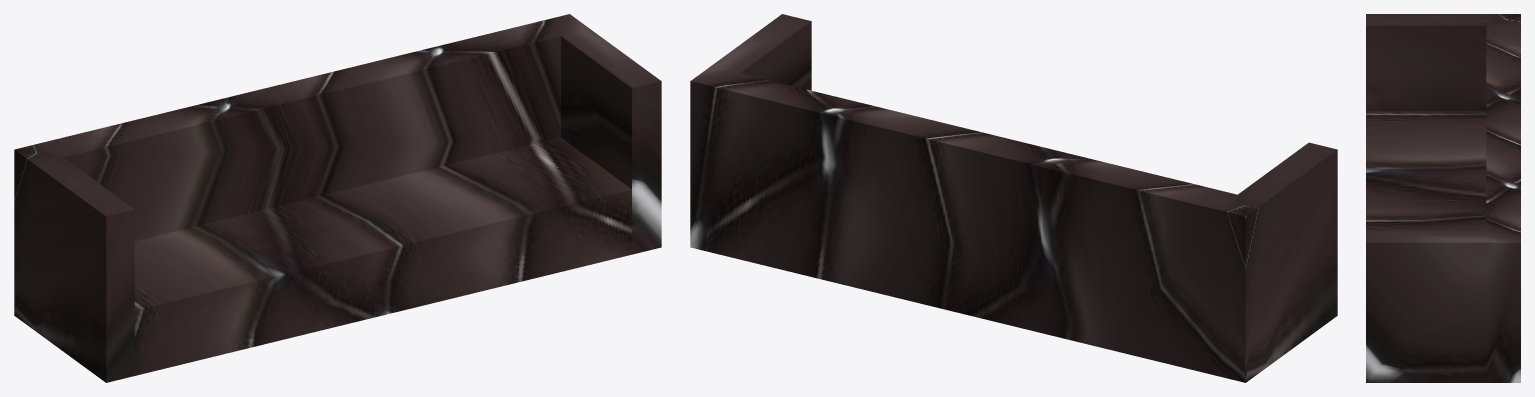
The model's file is Couch.dae.
The picture shows the model from 3 angles, left to right: view 1: azimuth 30°, elevation 25°; view 2: azimuth 150°, elevation 25°; view 3: azimuth 270°, elevation 25°; orthographic projection. The views are drawn at different scales.
Visible parts, largest first — view 1: Armchair_Cube; view 2: Armchair_Cube; view 3: Armchair_Cube.
Part boxes in pixels (x1,y1,x2,y2): Armchair_Cube: (14, 14, 661, 382); Armchair_Cube: (690, 14, 1337, 382); Armchair_Cube: (1366, 14, 1520, 382).
Size of the model in its own units: 6.99 by 2 by 2.
Materials: 1 (1 with a texture image).
